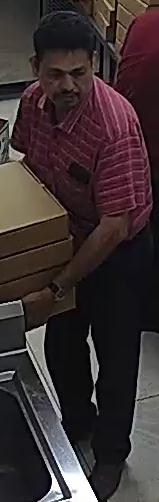no_apron: (11, 77, 148, 225)
